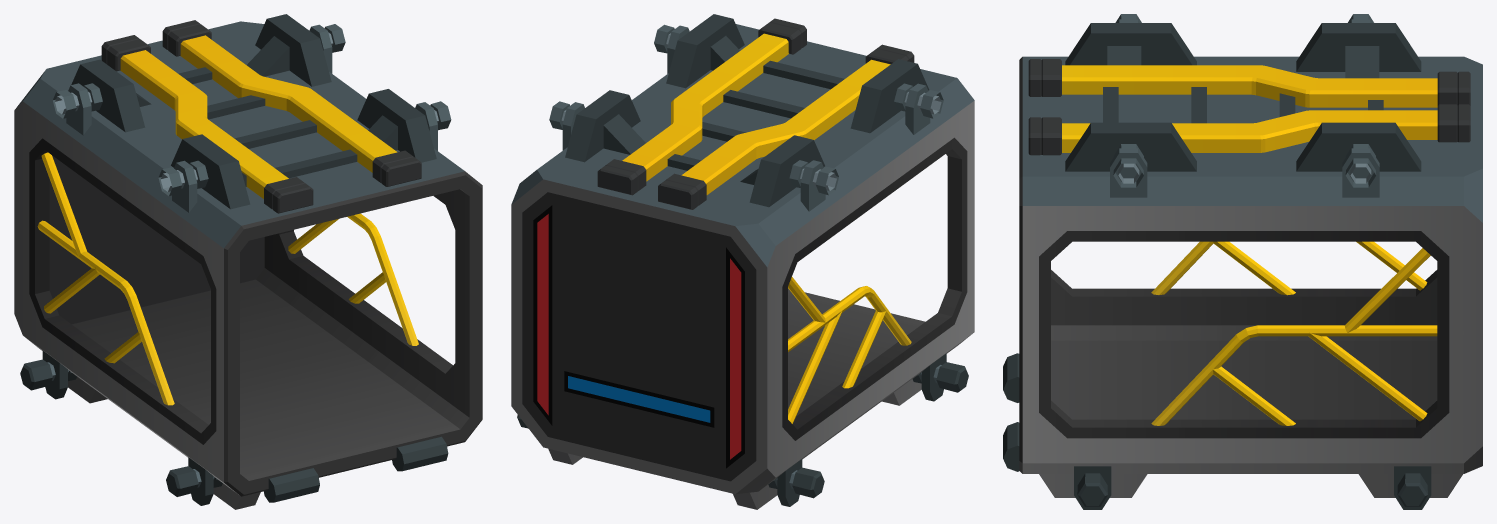
File: Cargo_drone_001.fbx
3 renders of one model, left to right at view 1: azimuth 30°, elevation 25°; view 2: azimuth 150°, elevation 25°; view 3: azimuth 270°, elevation 25°, orthographic. The views are drawn at different scales.
Visible parts, largest first — view 1: Cargo_drone_001; view 2: Cargo_drone_001; view 3: Cargo_drone_001.
Boxes of the visible parts, x1,y1,x2,y2 form: Cargo_drone_001: [14, 14, 482, 509]; Cargo_drone_001: [511, 14, 974, 509]; Cargo_drone_001: [1003, 14, 1482, 509].
Bounding box in the file's own units: 116 × 147 × 123.
